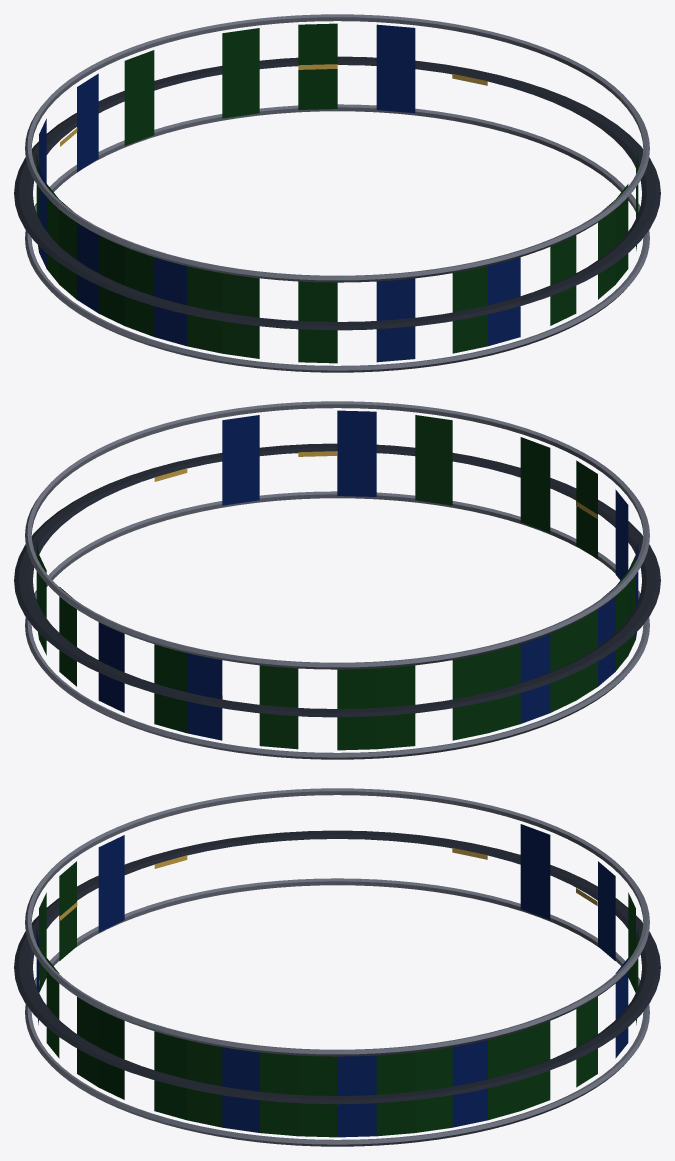
Rendered from ringworld.glb.
3 renders of one model, top to bottom at view 1: azimuth 30°, elevation 25°; view 2: azimuth 150°, elevation 25°; view 3: azimuth 270°, elevation 25°, orthographic.
Visible parts, largest first — view 1: ringworld; view 2: ringworld; view 3: ringworld.
Part boxes in pixels (x1,y1,x2,y2): ringworld: [14, 14, 660, 372]; ringworld: [14, 401, 660, 759]; ringworld: [14, 788, 660, 1146].
Bounding box in the file's own units: 2 × 0.329 × 2.
